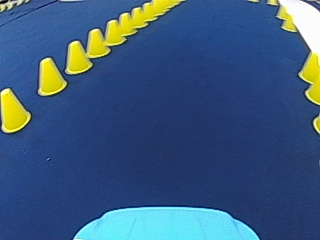cone: (0, 86, 31, 132), (36, 56, 66, 95), (64, 39, 92, 73), (297, 49, 318, 84), (85, 27, 108, 57), (103, 19, 123, 44), (115, 12, 133, 35), (305, 78, 319, 103), (129, 6, 144, 28), (281, 12, 295, 31), (140, 2, 153, 21), (276, 3, 287, 19)
